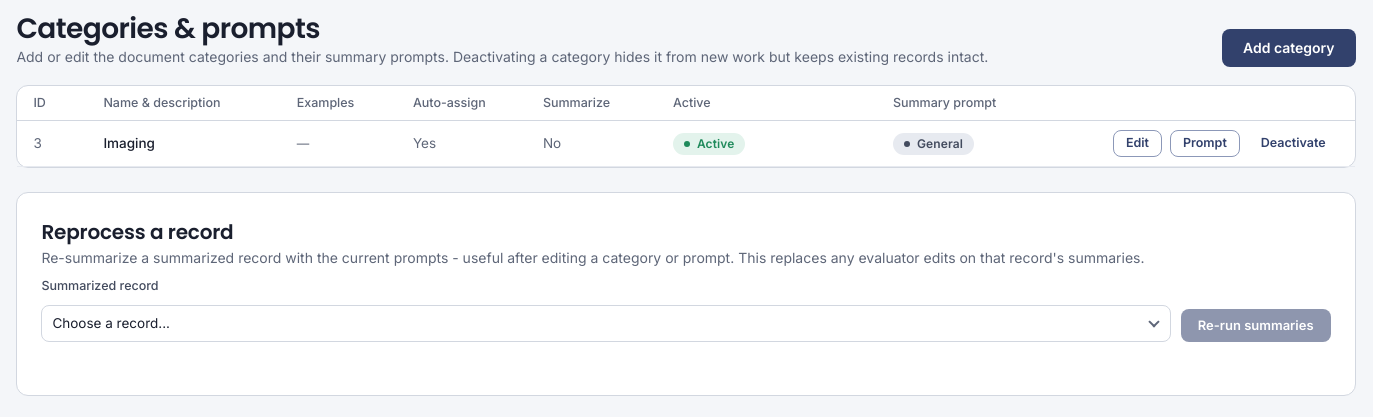
AdminView re-run picker › says a re-run failed rather than reporting that it started
Select "intake-packet.pdf" in the dropdown labelled "Summarized record" at (606,323), box [41,305,1171,342]
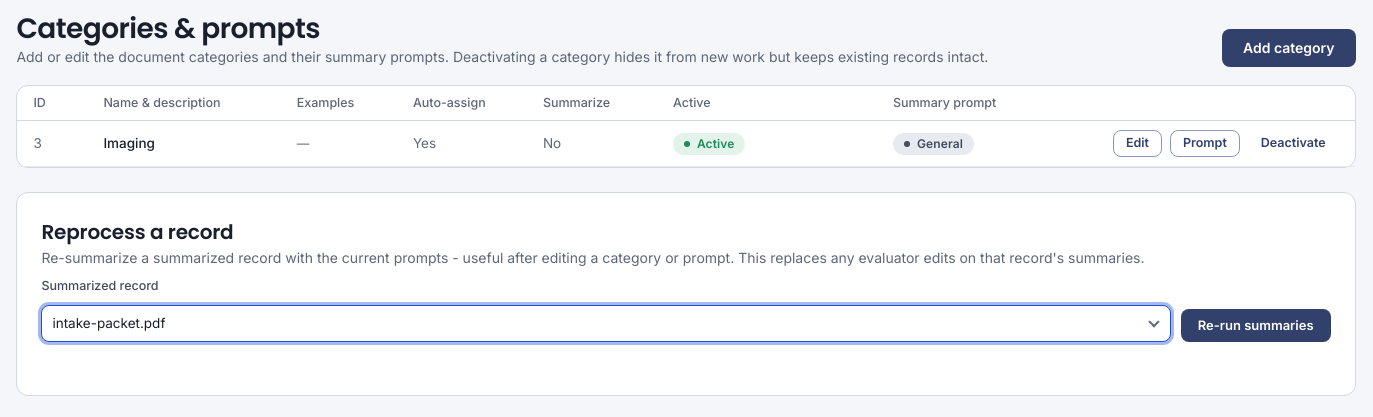
Click the button "Re-run summaries" at (1256,326), box [1181,309,1331,342]
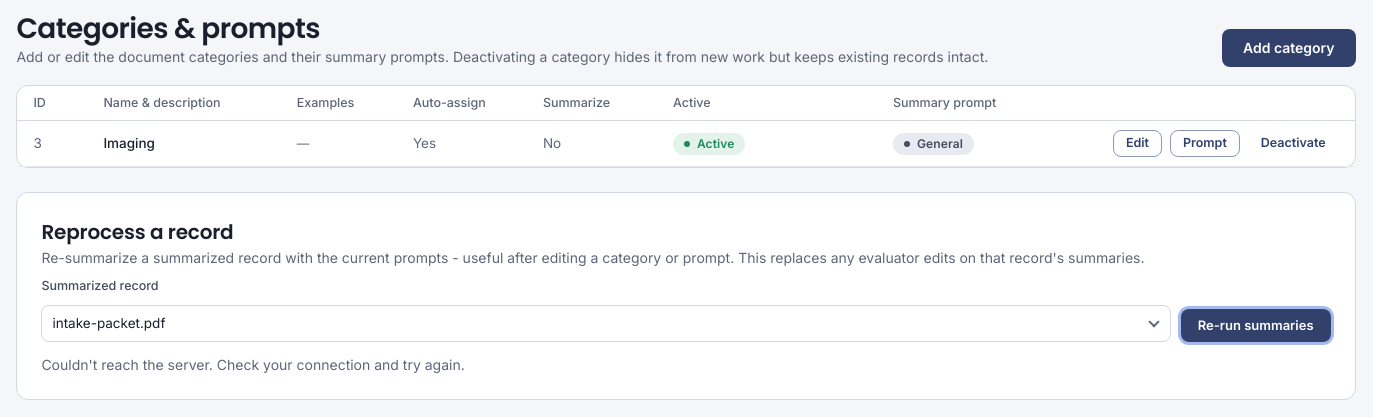
expect the text "Couldn't reach the server" is shown: met, box [41,356,465,373]
